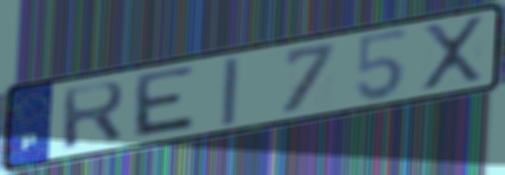5: (354, 24, 412, 105)
7: (280, 39, 339, 117)
E: (128, 63, 199, 141)
I: (218, 54, 242, 129)
R: (59, 79, 129, 153)
X: (420, 13, 487, 95)
